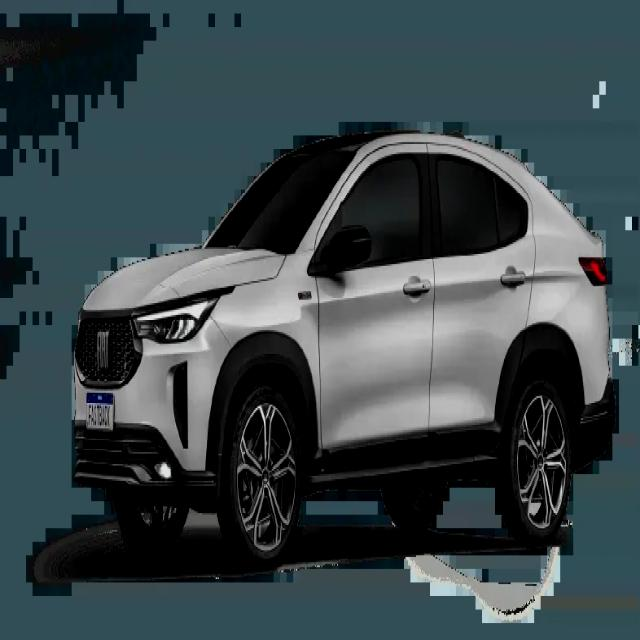SUV: (71, 127, 616, 569)
